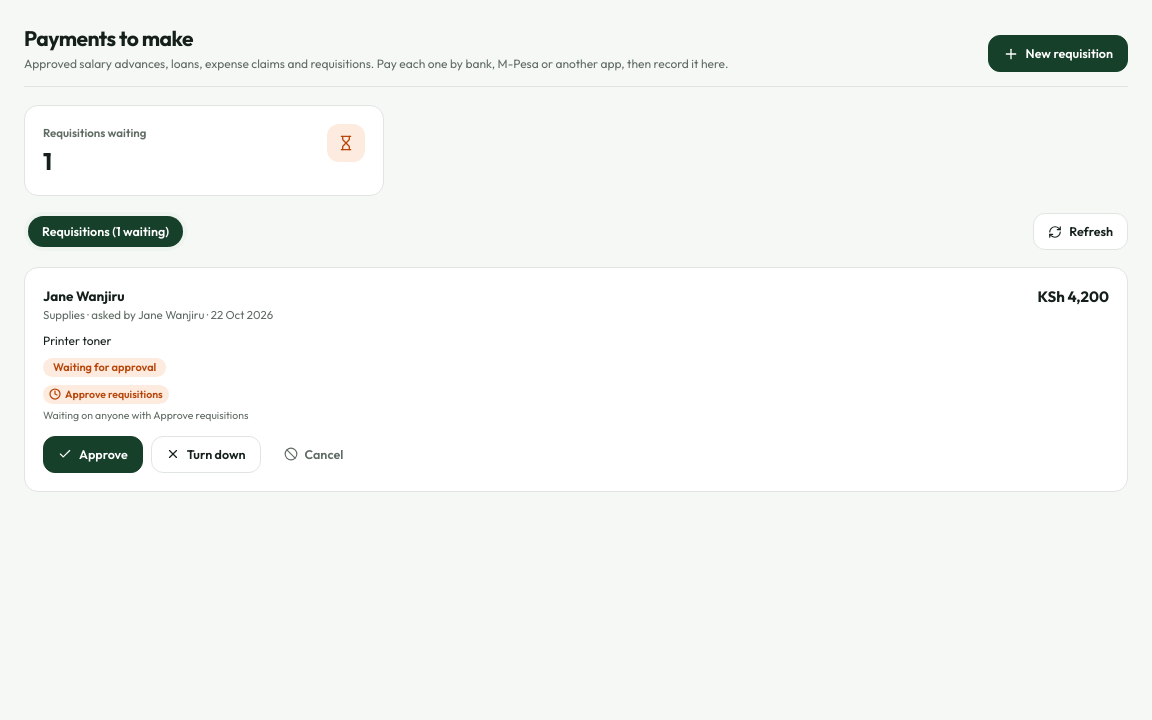
Test: HR: requisitions › turning one down needs a reason
Later steps or results of the test are not shown.
Step 1. Click the button "Turn down" → coordinates (206, 454), box [151, 436, 261, 473]
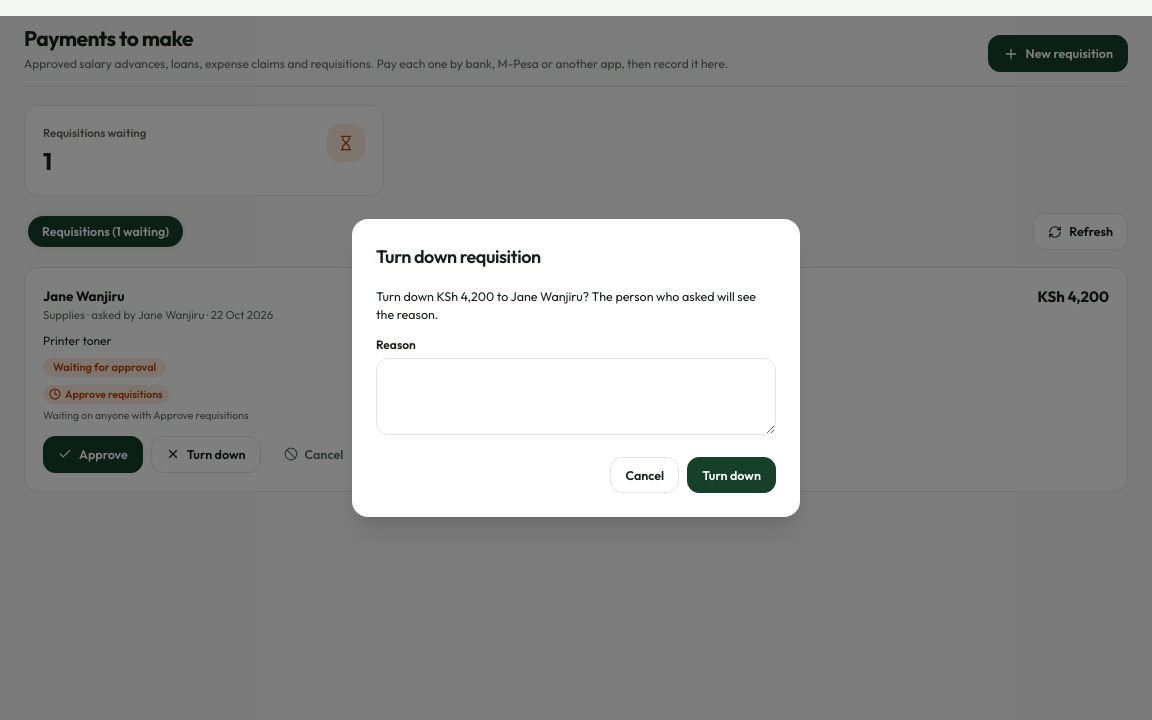
Step 2. Click the button "Turn down" → coordinates (732, 475), box [687, 457, 776, 493]
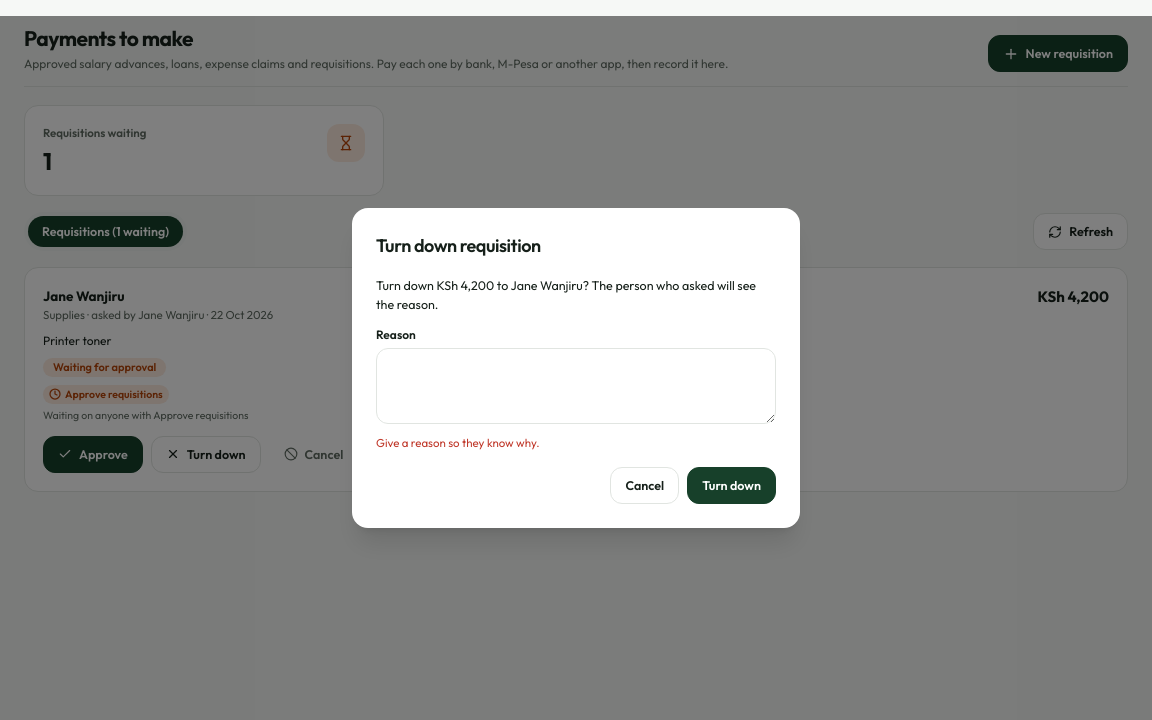
Check: the message "Give a reason so they know why." is shown, box [376, 435, 540, 450]
